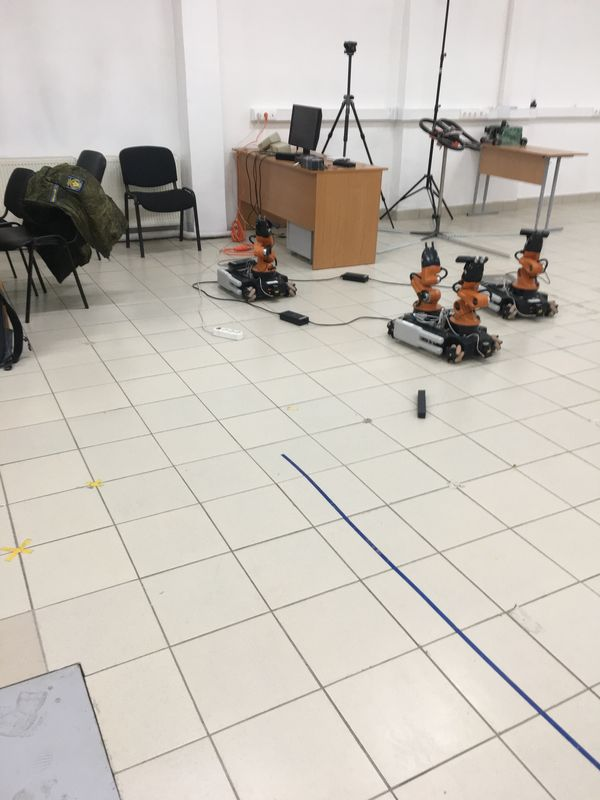socket: (209, 322, 248, 343)
